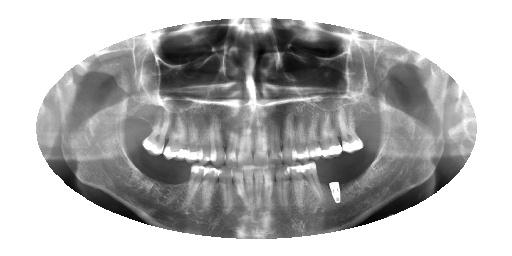i10healthy: (229, 167, 248, 210)
i11healthy: (218, 166, 234, 214)
i12healthy: (199, 166, 221, 208)
i13healthy: (176, 163, 205, 201)
i14loss: (168, 161, 187, 189)
i15loss: (148, 161, 167, 187)
i16loss: (131, 149, 149, 173)
i1loss: (363, 143, 378, 169)
i2loss: (342, 157, 362, 184)
i3healthy: (322, 170, 343, 202)
i4healthy: (300, 161, 326, 204)
i5healthy: (286, 164, 309, 207)
i6decay: (272, 165, 292, 206)
i7healthy: (262, 166, 277, 209)
i8healthy: (254, 165, 265, 206)
i9healthy: (240, 165, 256, 206)
u10loss: (226, 117, 238, 166)
u11healthy: (210, 117, 227, 167)
u12loss: (199, 118, 210, 162)
u13healthy: (185, 117, 203, 161)
u14healthy: (163, 115, 188, 160)
u15healthy: (142, 115, 164, 156)
u16loss: (135, 116, 151, 136)
u1loss: (355, 105, 379, 132)
u2healthy: (335, 109, 367, 152)
u3healthy: (318, 113, 344, 156)
u4healthy: (306, 114, 323, 159)
u5healthy: (293, 115, 308, 160)
u6healthy: (282, 115, 297, 162)
u7decay: (269, 116, 284, 164)
u8healthy: (253, 118, 271, 166)
u9healthy: (237, 116, 253, 165)
